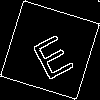E: (25, 25, 77, 82)
